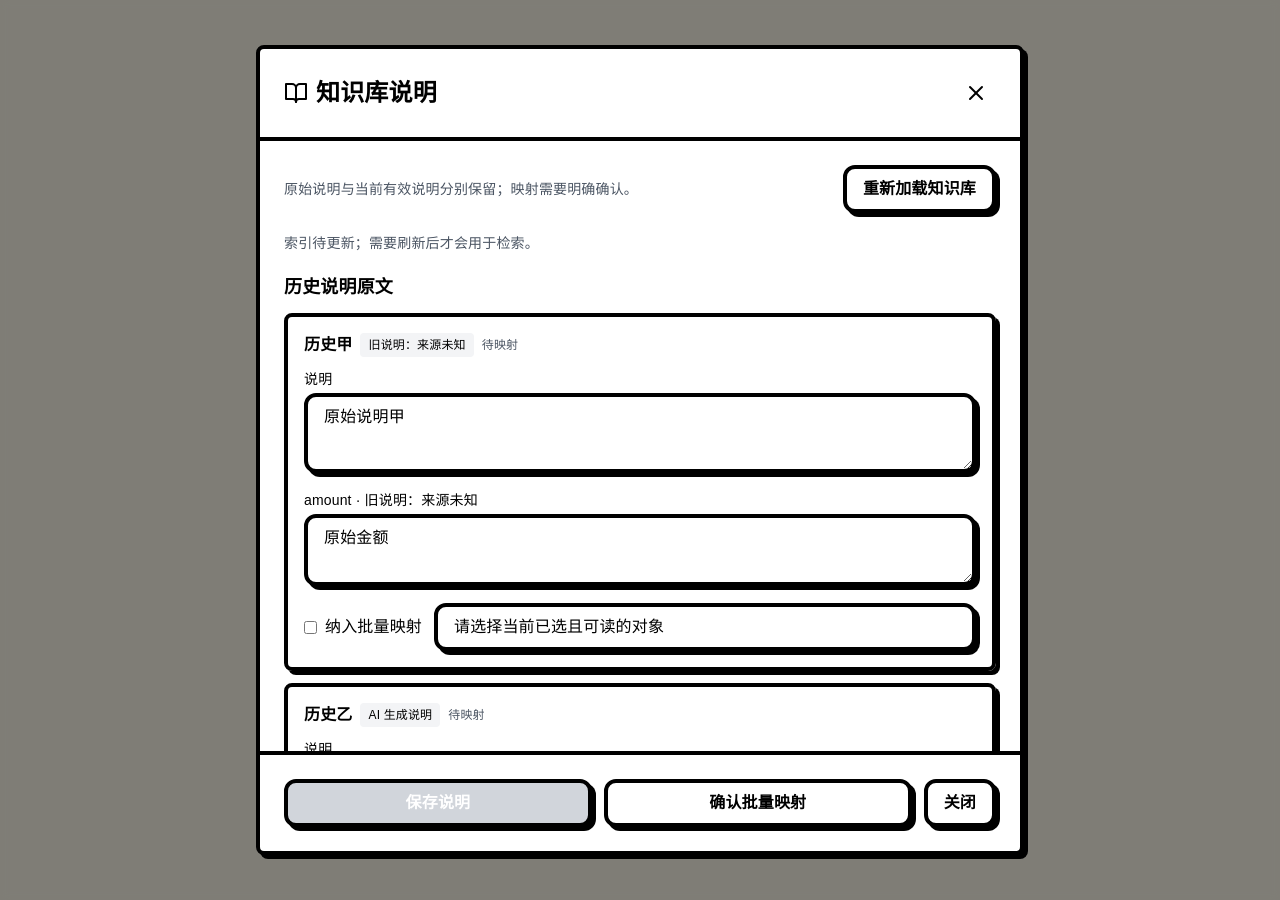
Test: history and field text save sends only explicit patch identities and edited text
Replace the text in the text box named "历史说明 1" with "用户新说明" at (640, 433), box [304,393,976,473]
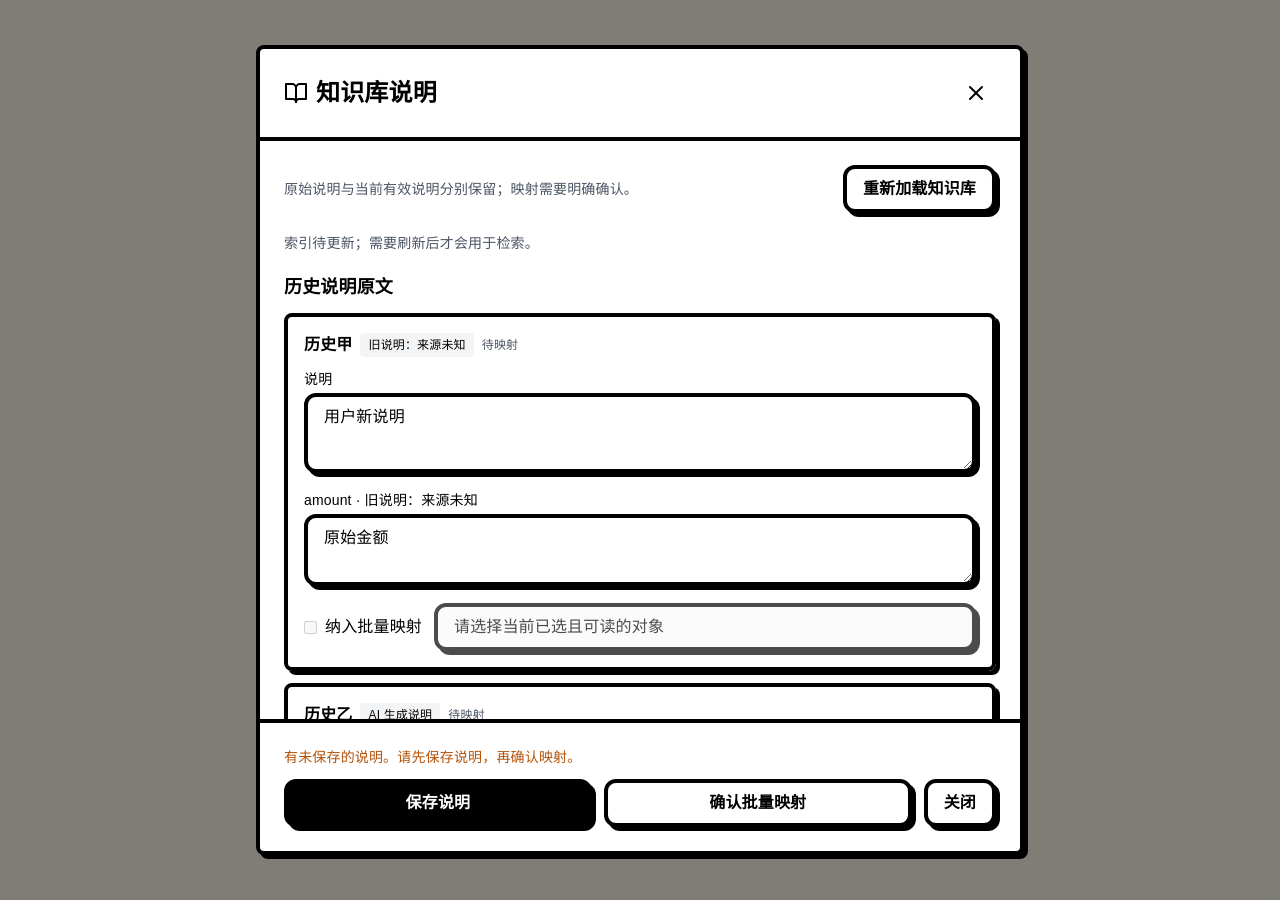
Replace the text in the text box named "历史 1 字段 amount" with "用户新金额" at (640, 550), box [304,514,976,586]
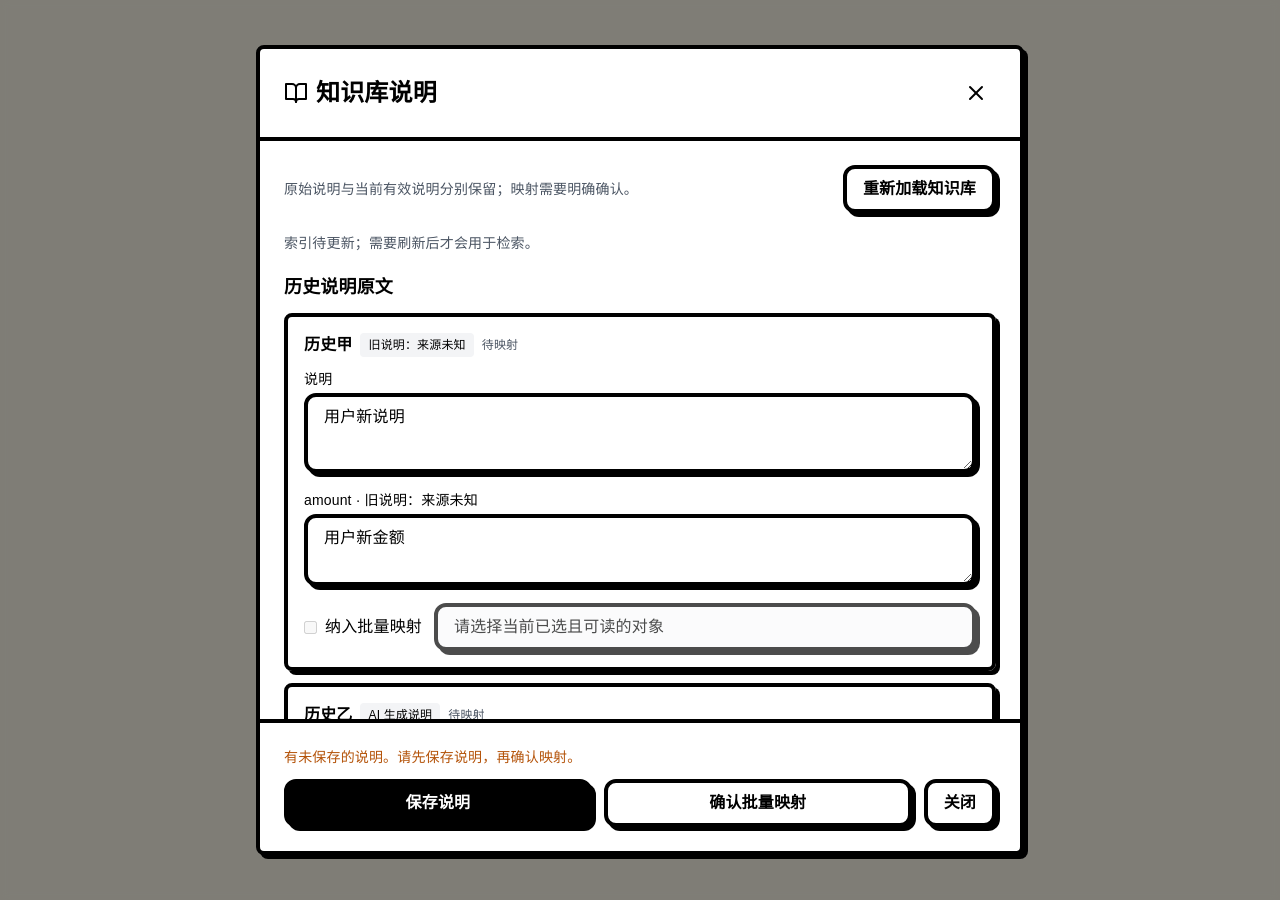
Click the button "保存说明" at (438, 803), box [284,779,592,827]
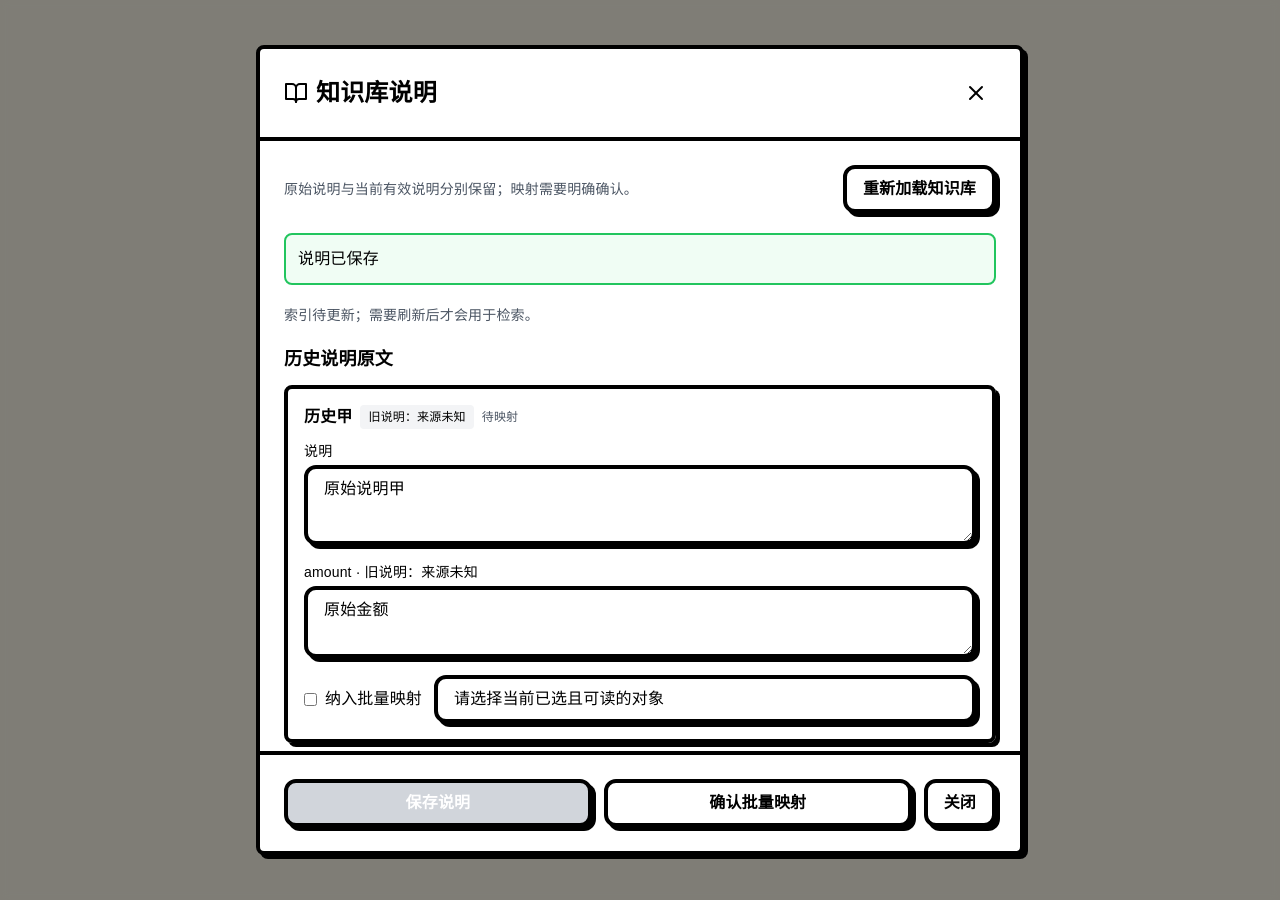
Expected: the text "索引待更新；需要刷新后才会用于检索。" is shown, [284,307,539,323]
Now the text "说明已保存" is shown, box [284,233,996,285]
